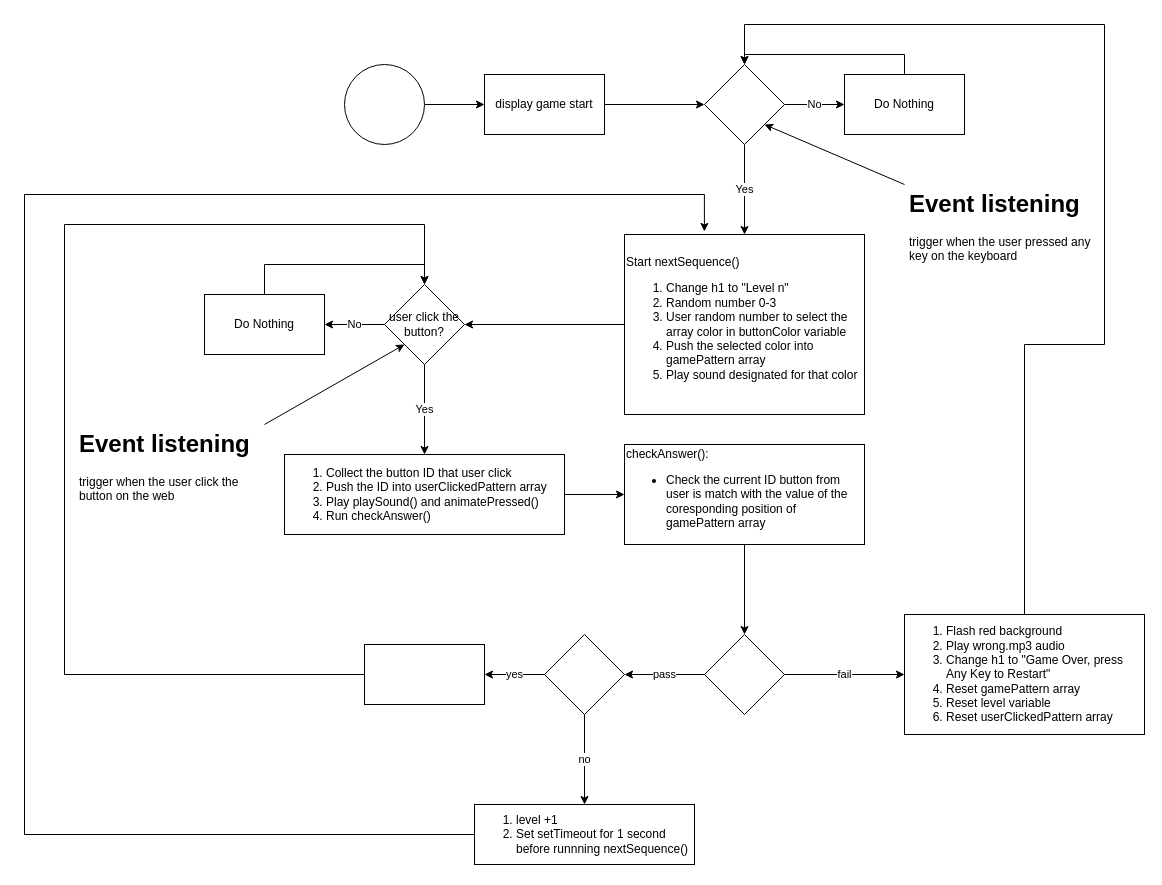
Some shapes in this 1162 by 885 pixel diagram are drawn without their labels. The shapes that lost their labels are listed below. From the top down, each one's box as (x1, y1, x2, y2) in pixels, then its label:
(704, 64, 784, 144): user click any key?
(364, 644, 484, 704): wait for the user to click next button
(544, 634, 624, 714): more key to press?
(704, 634, 784, 714): result?
